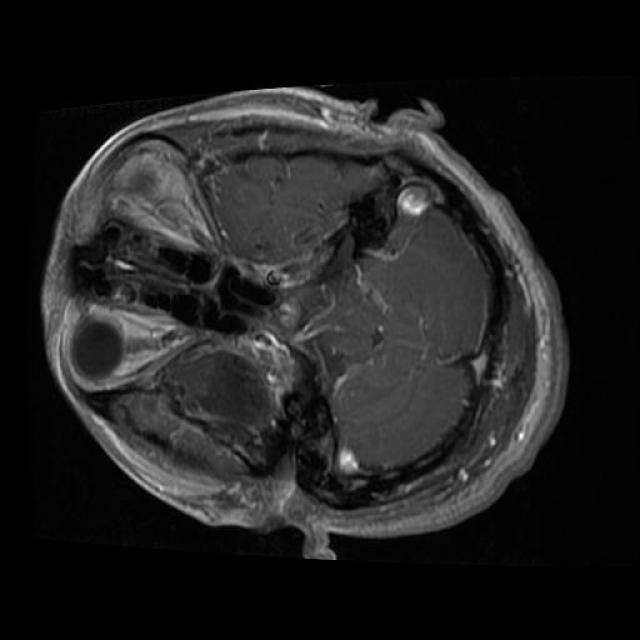Glioma: (159, 347, 283, 464)
